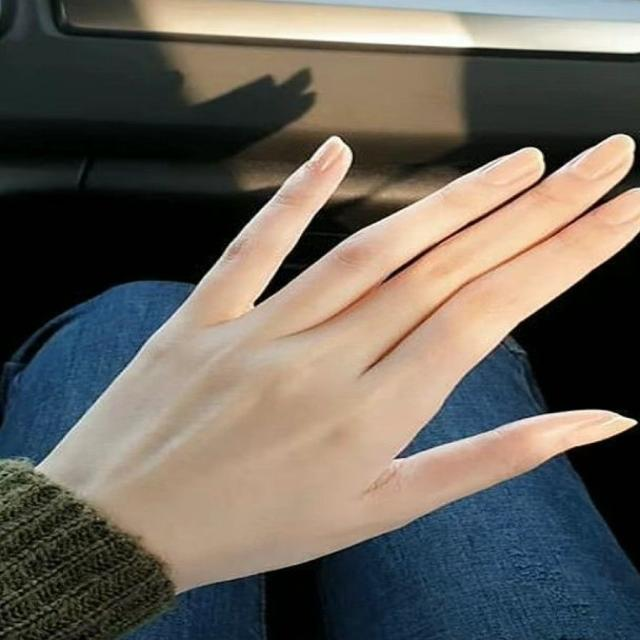hand: (53, 129, 640, 584)
